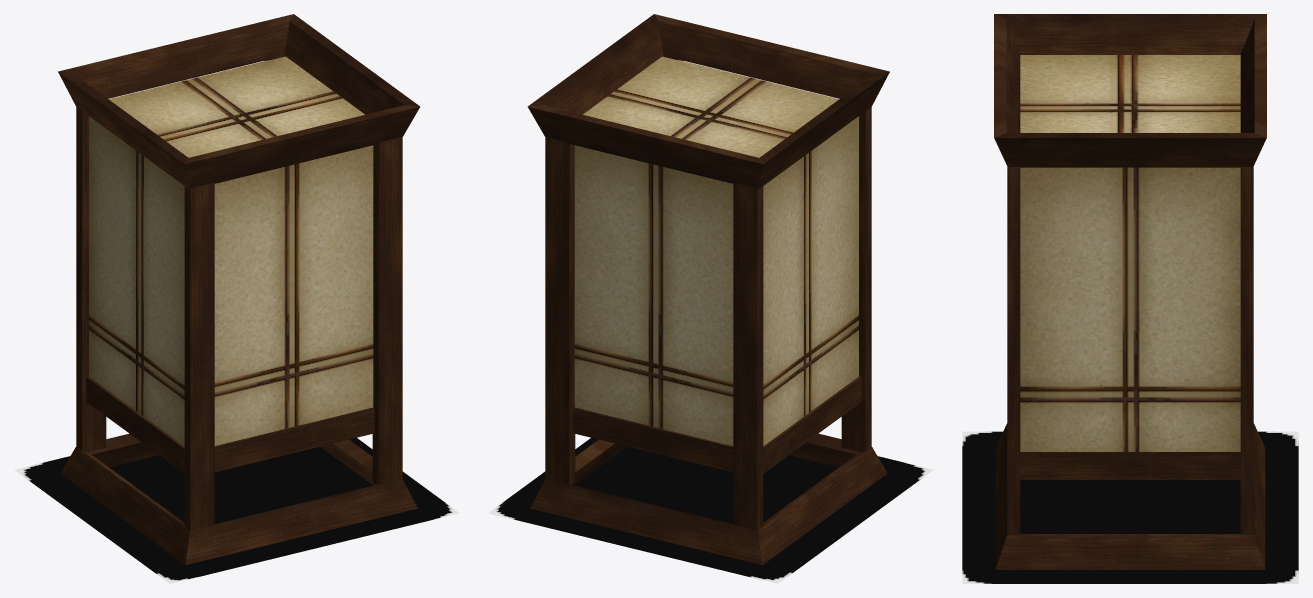
File: jj_rixi_deng02.FBX
3 renders of one model, left to right at view 1: azimuth 30°, elevation 25°; view 2: azimuth 150°, elevation 25°; view 3: azimuth 270°, elevation 25°, orthographic. The views are drawn at different scales.
Visible parts, largest first — view 1: jj_rixi_deng02, shadow; view 2: jj_rixi_deng02, shadow; view 3: jj_rixi_deng02, shadow.
Boxes of the visible parts, x1,y1,x2,y2 form: jj_rixi_deng02: (58,14,420,564); shadow: (14,437,459,583); jj_rixi_deng02: (527,14,889,564); shadow: (488,437,933,583); jj_rixi_deng02: (994,14,1266,569); shadow: (962,431,1298,583).
Size of the model in its own units: 30.76 by 41.23 by 28.68.
